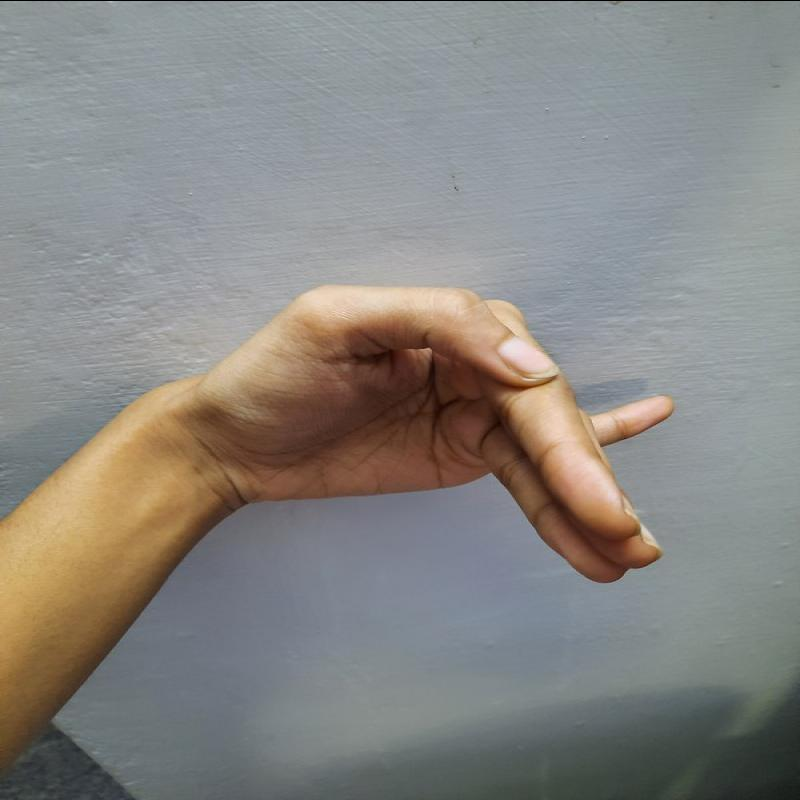Kartharee Mukham: (174, 274, 681, 591)
